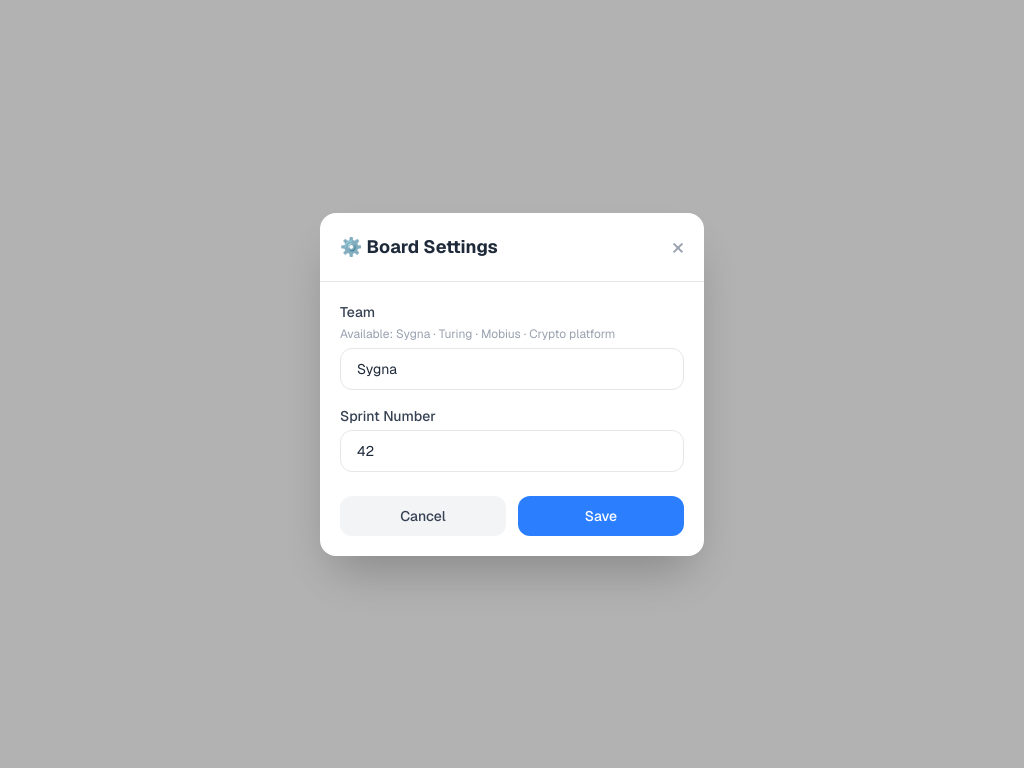
Test: BoardSettingsModal › Save button is disabled when team is invalid
Step 1. Replace the text in the field showing "Sygna" with "NotATeam" → point(512, 368), box left=340, top=348, right=684, bottom=390
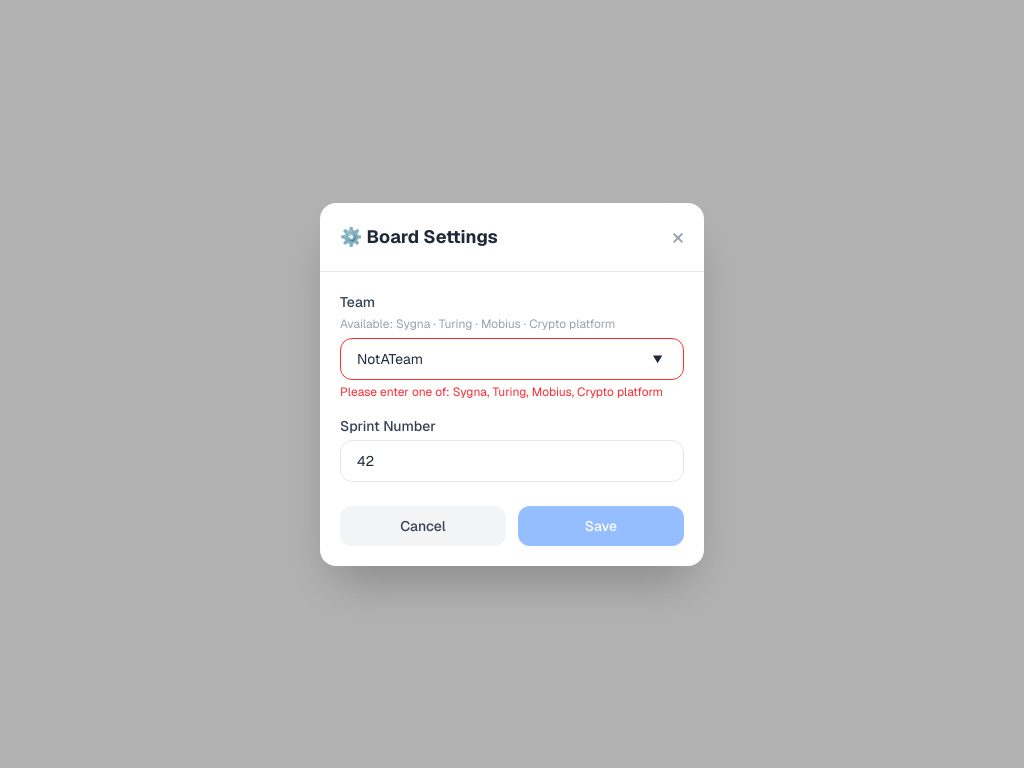
Now the button "Save" is disabled, box left=518, top=506, right=684, bottom=546
